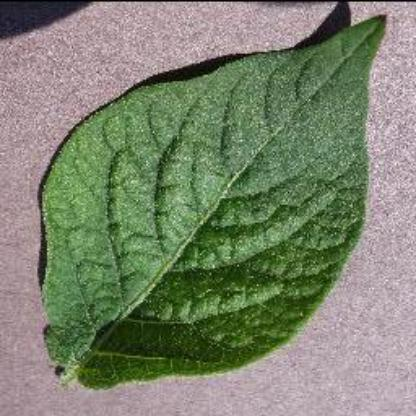Healthy-plant: (35, 13, 388, 392)
